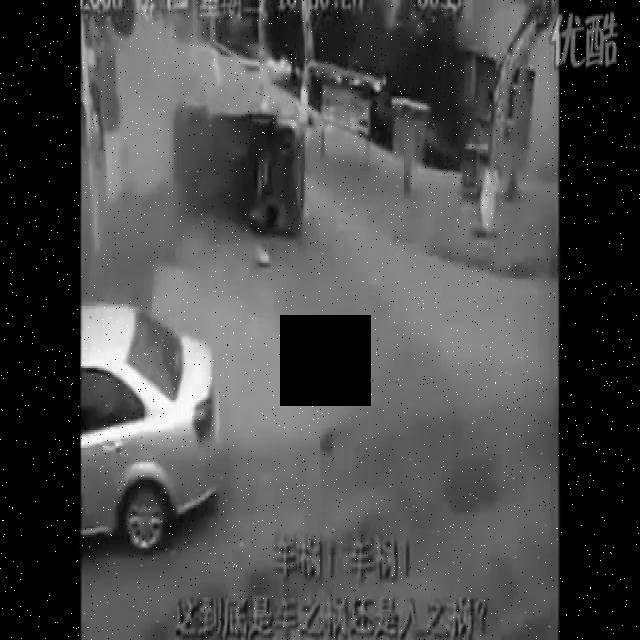accident: (166, 90, 309, 241)
vehicle: (85, 293, 228, 563)
